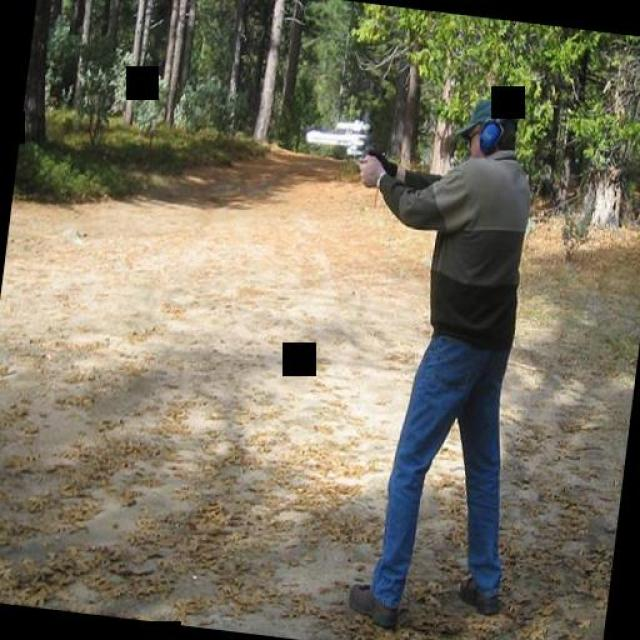gun: (301, 110, 375, 159)
